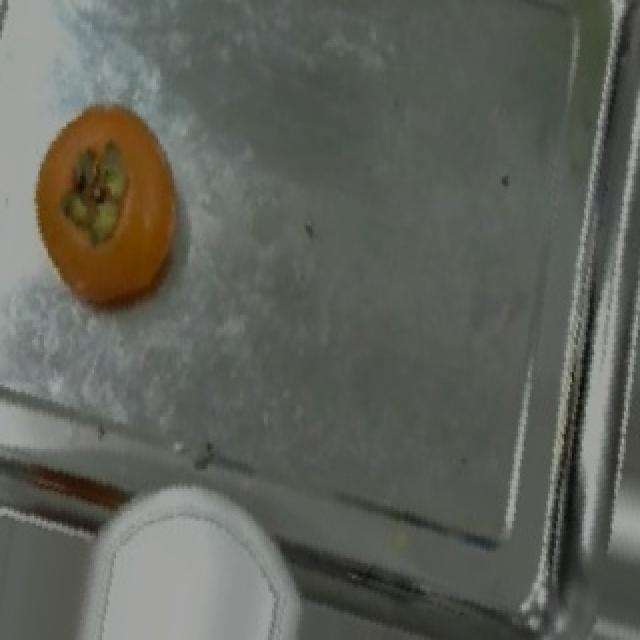Fruit: (6, 82, 206, 330), (74, 503, 294, 640)
